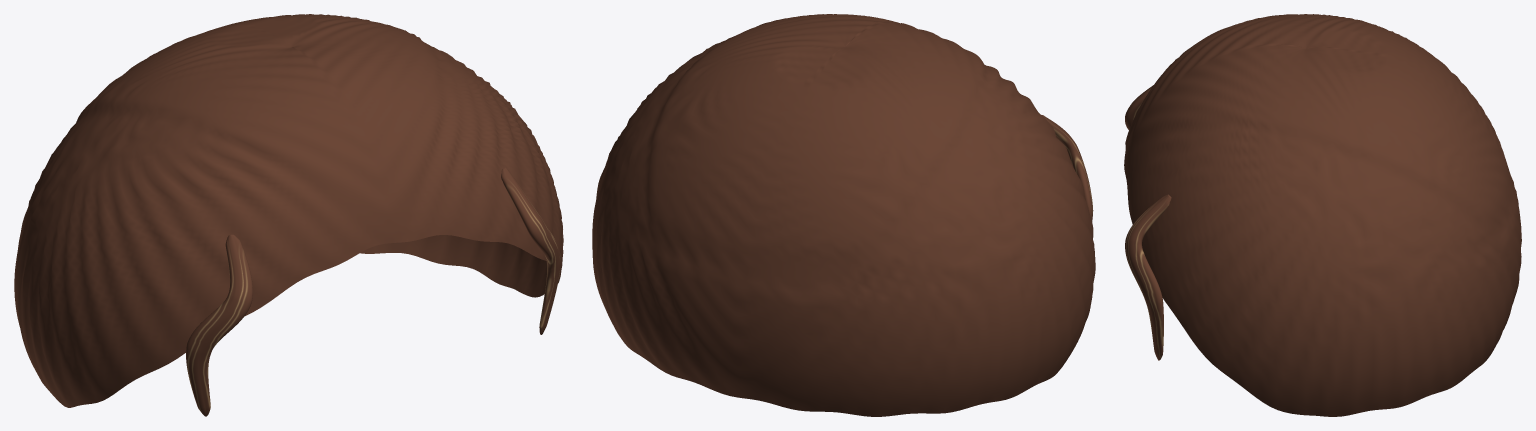
Rendered from Highlights-c4b43c311630252-hair.glb.
The picture shows the model from 3 angles, left to right: view 1: azimuth 30°, elevation 25°; view 2: azimuth 150°, elevation 25°; view 3: azimuth 270°, elevation 25°; orthographic projection. The views are drawn at different scales.
Parts seen in each view (by area): view 1: 226 hair / Hair / chestnut226.002; view 2: 226 hair / Hair / chestnut226.002; view 3: 226 hair / Hair / chestnut226.002.
Part boxes in pixels (x1,y1,x2,y2): 226 hair / Hair / chestnut226.002: [14, 14, 563, 416]; 226 hair / Hair / chestnut226.002: [592, 14, 1095, 416]; 226 hair / Hair / chestnut226.002: [1124, 14, 1521, 416].
Bounding box in the file's own units: 0.9988 × 0.599 × 0.7845.
Materials: 1 (1 with a texture image).
